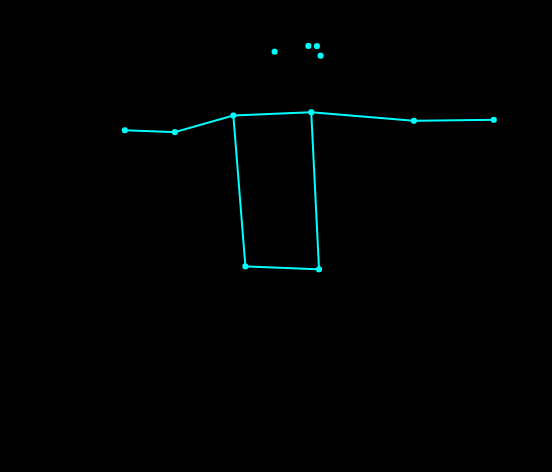warrior_2: (118, 36, 501, 284)
